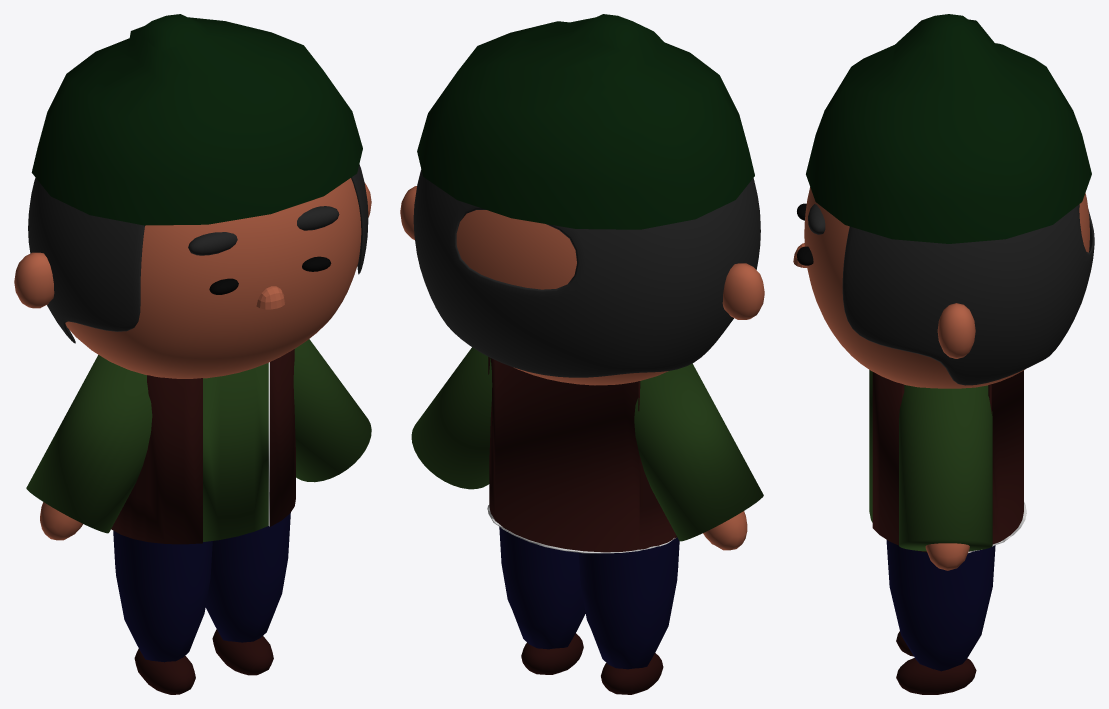
The model's file is teacher.obj.
3 renders of one model, left to right at view 1: azimuth 30°, elevation 25°; view 2: azimuth 150°, elevation 25°; view 3: azimuth 270°, elevation 25°, orthographic. The views are drawn at different scales.
Visible parts, largest first — view 1: bousi, kao, body, hidariude, head, 立方体.003, ashiR, mimirL, 立方体, 立方体.001, mayuge, handL (+1 smaller); view 2: bousi, head, body, hidariude, 立方体.003, kao, ashiR, mimirL, 立方体, 立方体.001, handL, mimir; view 3: bousi, head, hidariude, body, ashiR, kao, 立方体, mimir, handR.
Part boxes in pixels (box(x1,y1,x2,y2)): bousi: box(31, 14, 362, 225); kao: box(65, 178, 361, 378); body: box(111, 349, 295, 544); hidariude: box(26, 339, 371, 533); head: box(28, 164, 368, 343); 立方体.003: box(113, 530, 212, 662); ashiR: box(205, 512, 290, 642); mimirL: box(14, 252, 54, 308); 立方体: box(212, 629, 273, 675); 立方体.001: box(134, 648, 195, 694); mayuge: box(188, 206, 339, 255); handL: box(40, 502, 82, 540); bousi: box(417, 14, 754, 229); head: box(413, 170, 760, 377); body: box(487, 357, 676, 553); hidariude: box(411, 347, 763, 541); 立方体.003: box(579, 537, 679, 669); kao: box(456, 210, 668, 385); ashiR: box(499, 527, 585, 649); mimirL: box(722, 263, 764, 319); 立方体: box(521, 633, 583, 674); 立方体.001: box(601, 653, 663, 694); handL: box(703, 511, 747, 550); mimir: box(400, 186, 416, 239); bousi: box(806, 14, 1091, 243); head: box(842, 204, 1094, 385); hidariude: box(899, 385, 992, 551); body: box(869, 370, 1026, 552); ashiR: box(886, 540, 995, 671); kao: box(804, 187, 1089, 388); 立方体: box(896, 658, 976, 694); mimir: box(937, 303, 975, 358); handR: box(925, 543, 969, 570).
Bounding box in the file's own units: 3.04 × 5.44 × 2.31.
